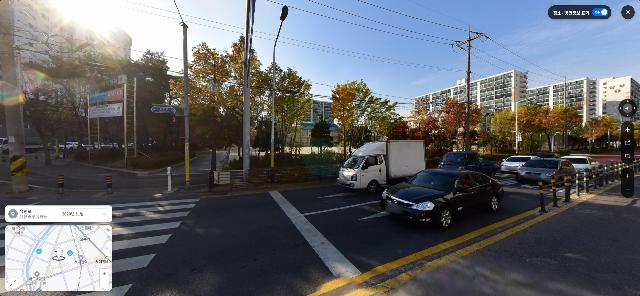other: (19, 44, 115, 165), (167, 35, 244, 172), (223, 36, 271, 159), (128, 48, 185, 151), (264, 62, 317, 160), (328, 79, 374, 154), (430, 97, 487, 151), (355, 95, 399, 147), (516, 103, 553, 152), (407, 106, 446, 151), (547, 105, 584, 152), (583, 114, 625, 154), (484, 108, 518, 156), (309, 112, 335, 155)
